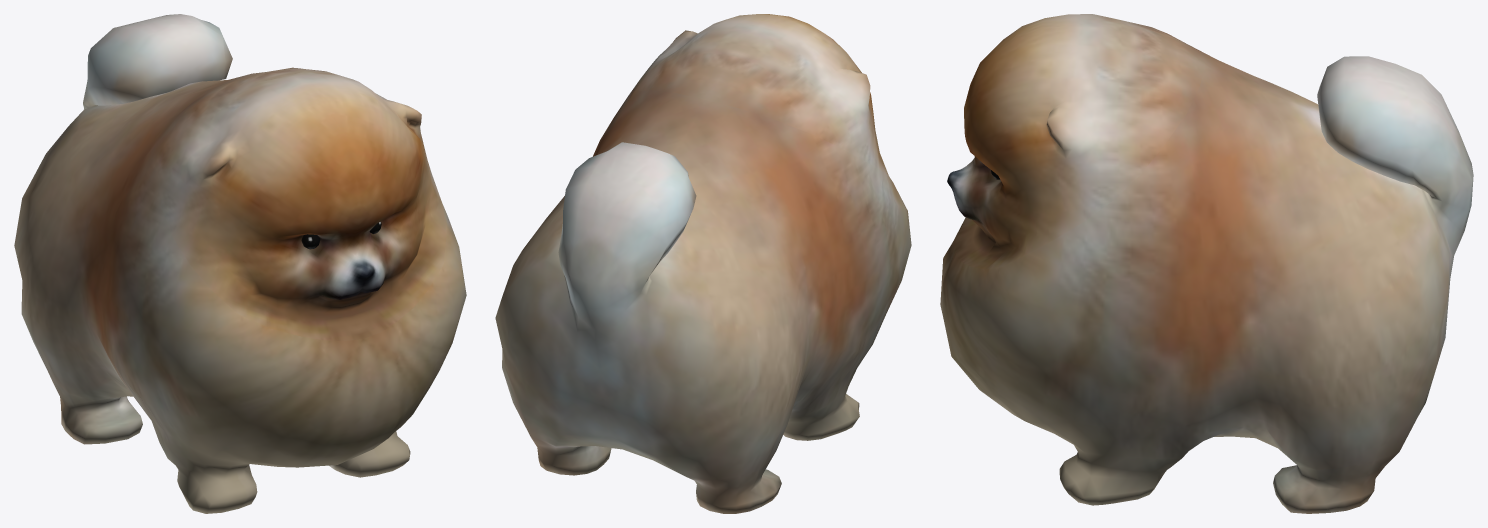
Rendered from Dog4_sample.fbx.
The picture shows the model from 3 angles, left to right: view 1: azimuth 30°, elevation 25°; view 2: azimuth 150°, elevation 25°; view 3: azimuth 270°, elevation 25°; orthographic projection. The views are drawn at different scales.
Visible parts, largest first — view 1: Final_furFull_Dog4; view 2: Final_furFull_Dog4; view 3: Final_furFull_Dog4.
Part boxes in pixels (left/top/right/bottom): Final_furFull_Dog4: left=14, top=14, right=466, bottom=513; Final_furFull_Dog4: left=495, top=14, right=911, bottom=513; Final_furFull_Dog4: left=940, top=14, right=1473, bottom=513.
Size of the model in its own units: 33.08 by 42.2 by 48.02.
Materials: 1 (1 with a texture image).
